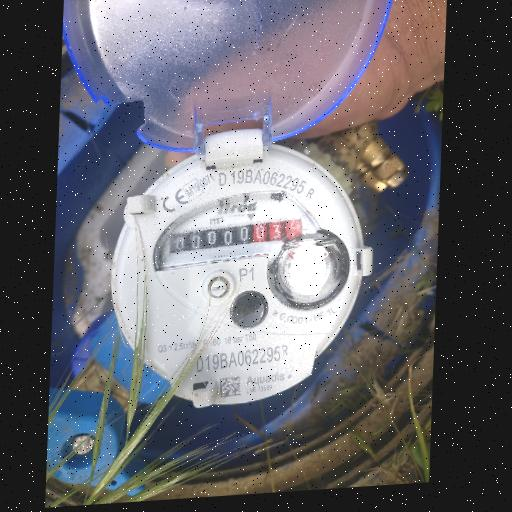0: (252, 223, 268, 243), (189, 230, 204, 251), (173, 232, 188, 252), (204, 228, 219, 248), (220, 227, 235, 247), (236, 225, 251, 245)
2: (284, 219, 303, 241)
3: (268, 221, 284, 242)
border_water_meter_number: (166, 214, 307, 267)
